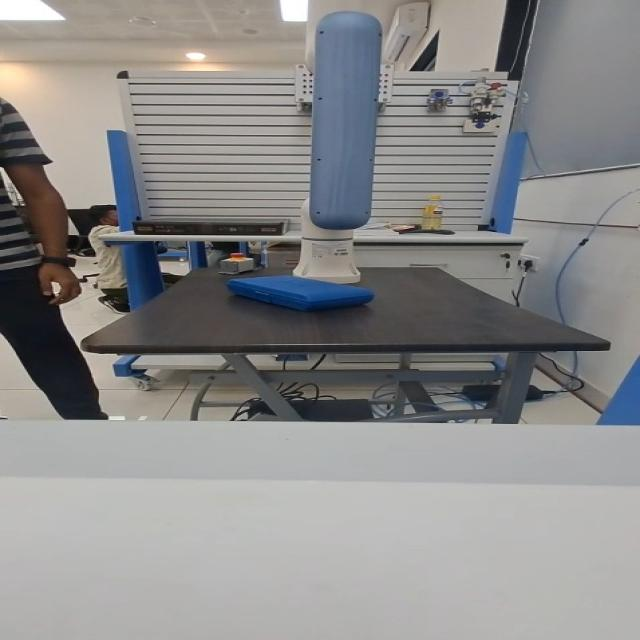top-surface: (236, 276, 358, 295)
